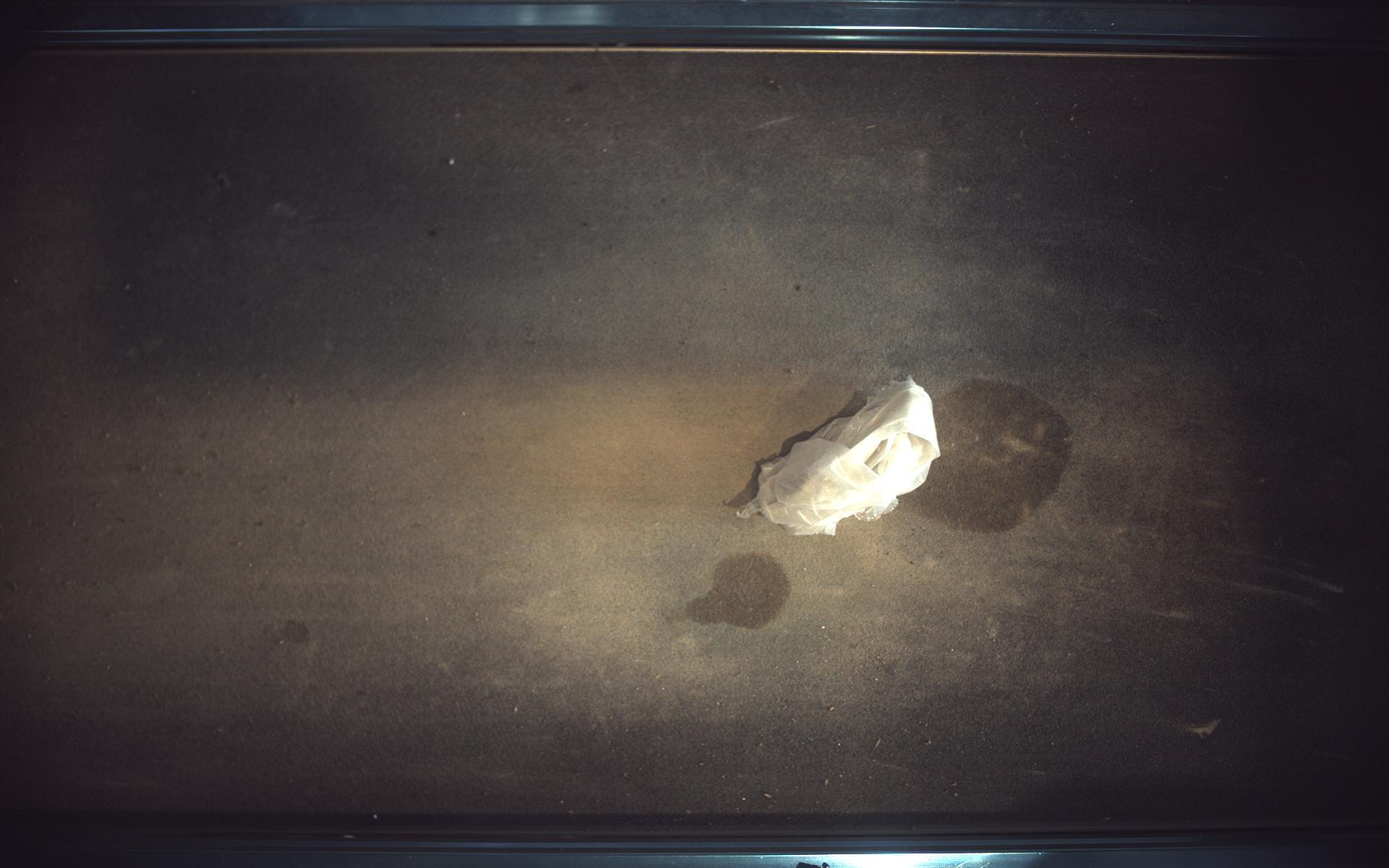general_w: (739, 377, 942, 535)
